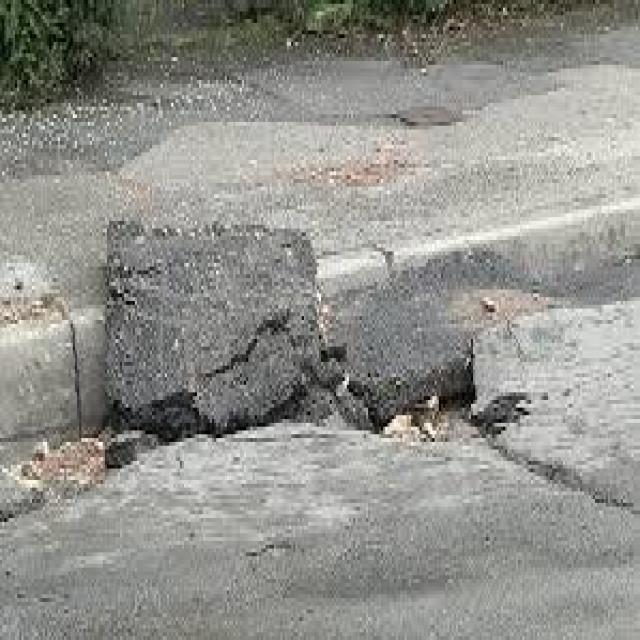curb: (70, 243, 391, 440), (389, 187, 638, 308), (4, 317, 83, 465)
